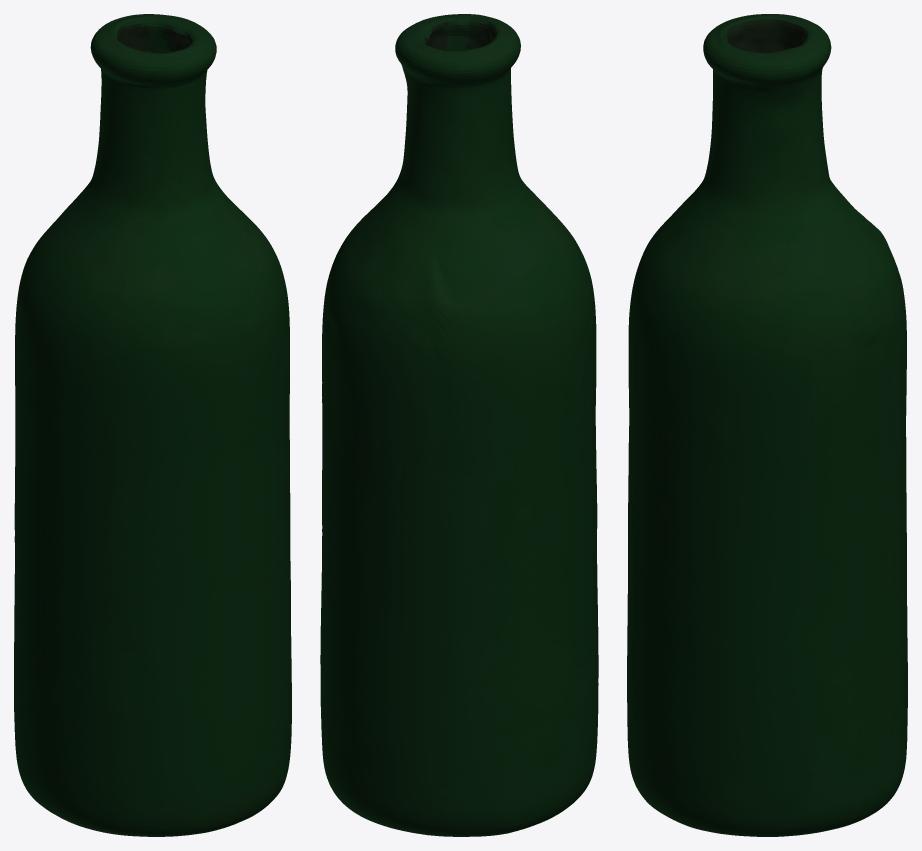
3 renders of one model, left to right at view 1: azimuth 30°, elevation 25°; view 2: azimuth 150°, elevation 25°; view 3: azimuth 270°, elevation 25°, orthographic.
Visible parts, largest first — view 1: Hy21_Mesh.obj; view 2: Hy21_Mesh.obj; view 3: Hy21_Mesh.obj.
Boxes of the visible parts, x1,y1,x2,y2 form: Hy21_Mesh.obj: [14, 14, 291, 836]; Hy21_Mesh.obj: [320, 14, 598, 836]; Hy21_Mesh.obj: [627, 14, 907, 836].
Bounding box in the file's own units: 0.6476 × 1.96 × 0.6587.
1 material, 1 textured.
